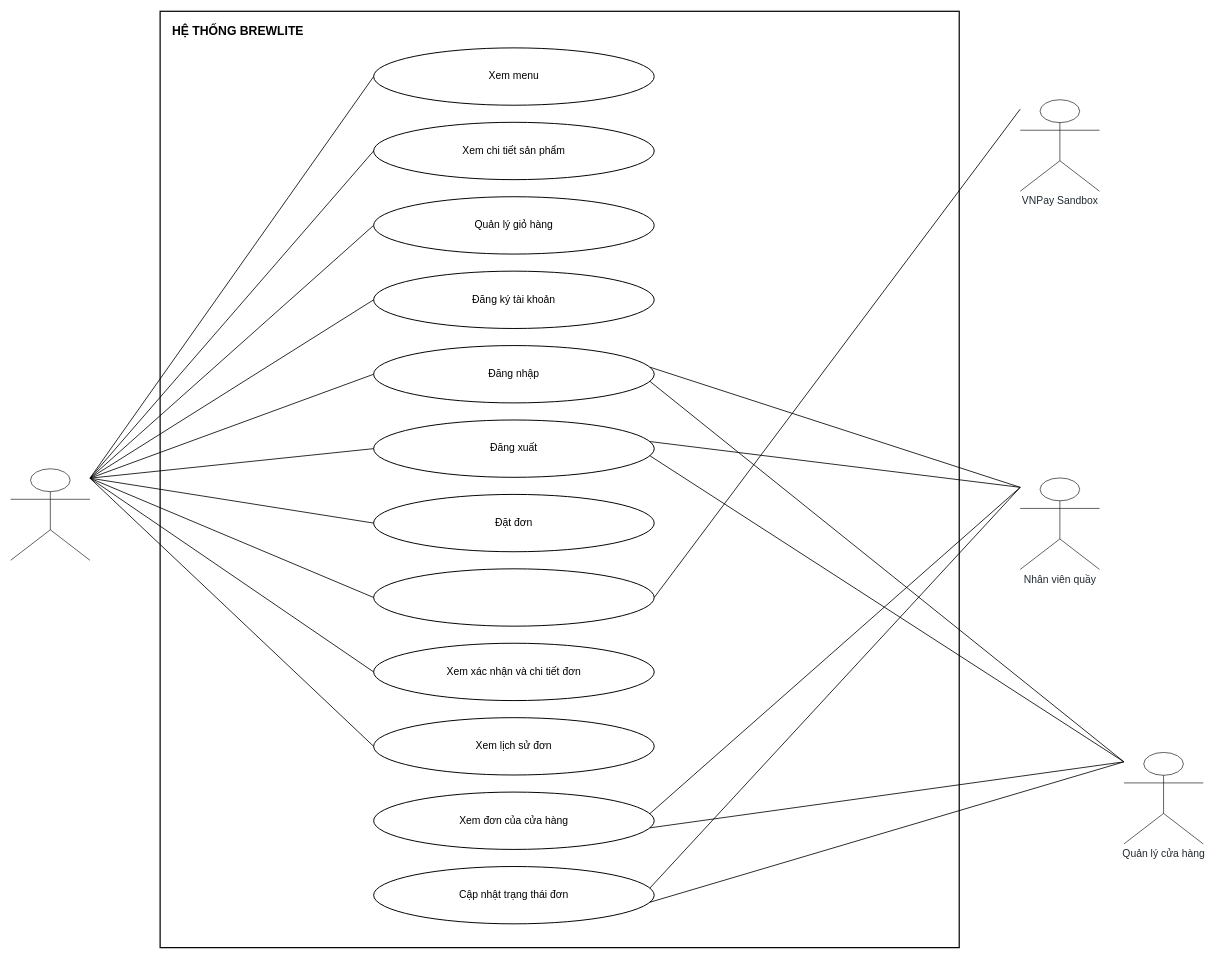
The diagram is 1215 pixels wide and 958 high, and some of its shapes have lost their labels. The shapes that lost their labels are listed below. From the top down, each one's centre as x and y in pixels, then its label:
At point (50, 514): "Khách hàng".
At point (513, 597): "Thanh toán đơn".
